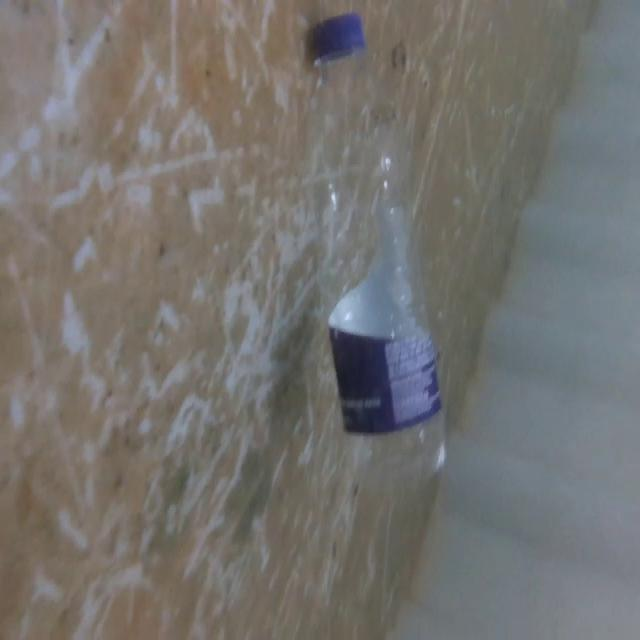plastic bottle: (298, 11, 458, 494)
